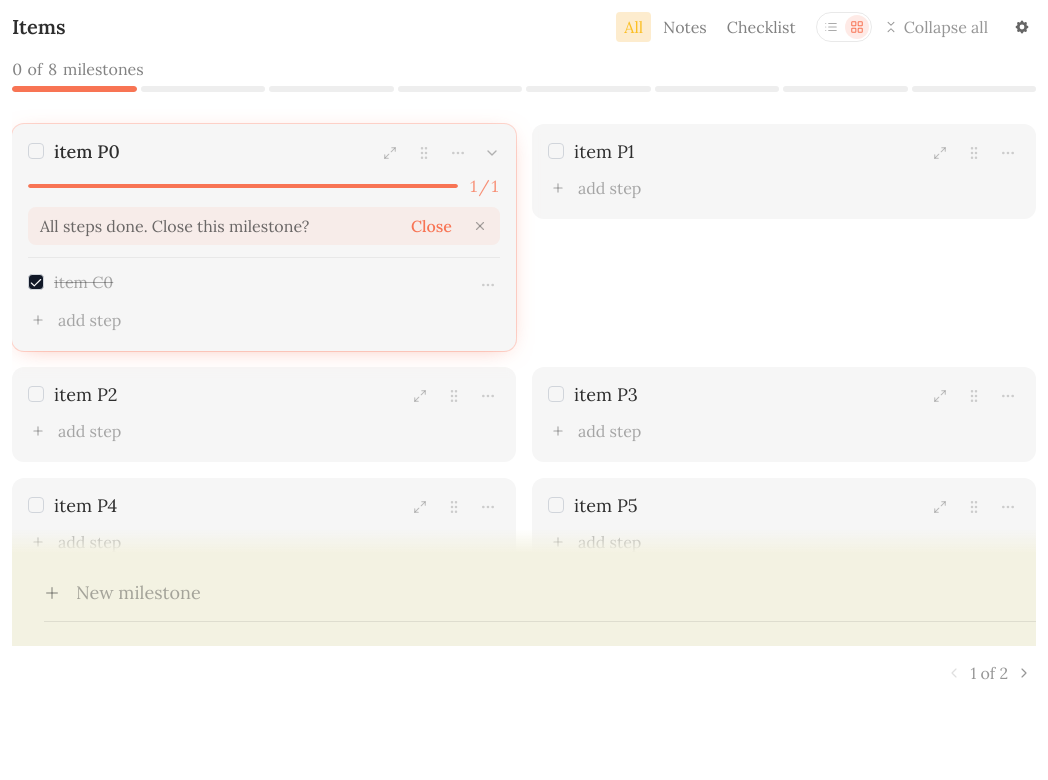
Test case: Todo list / blocks toggle › should open on the blocks, with the list one click away
The width and height of the screenshot is (1048, 780).
Expected: the text "item P0" is shown, [54,140,120,163]
Click the button named "Checklist" at x=831, y=27, box [819,15,843,39]
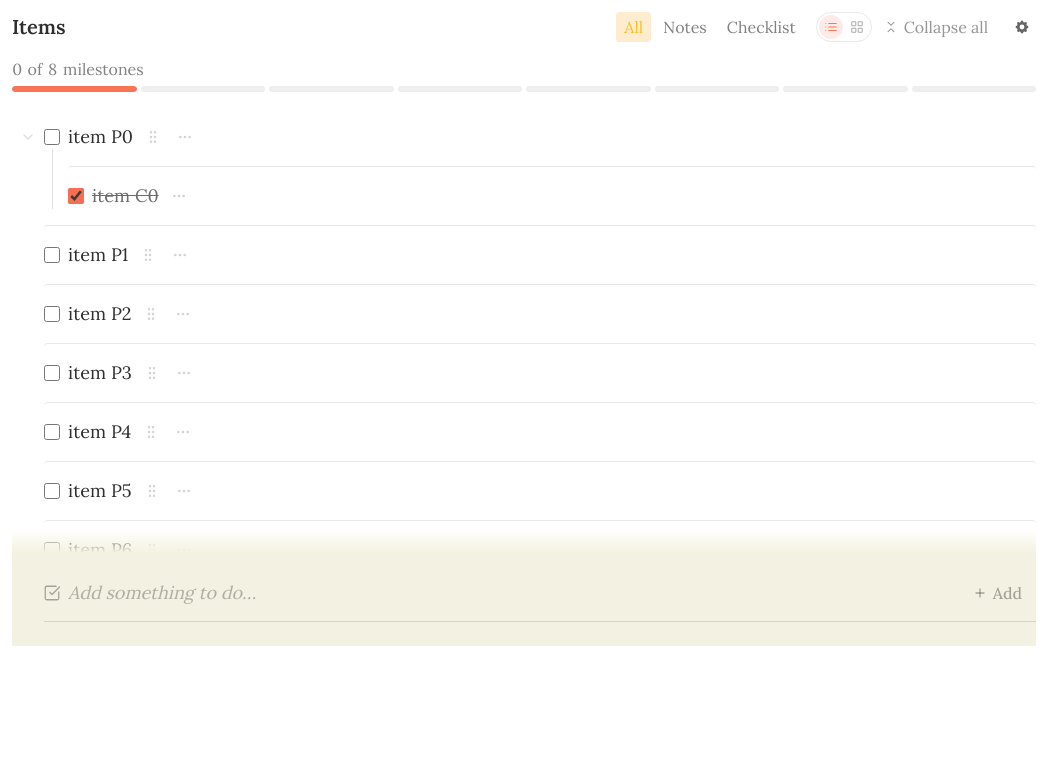
Result: the number of list items is 9
